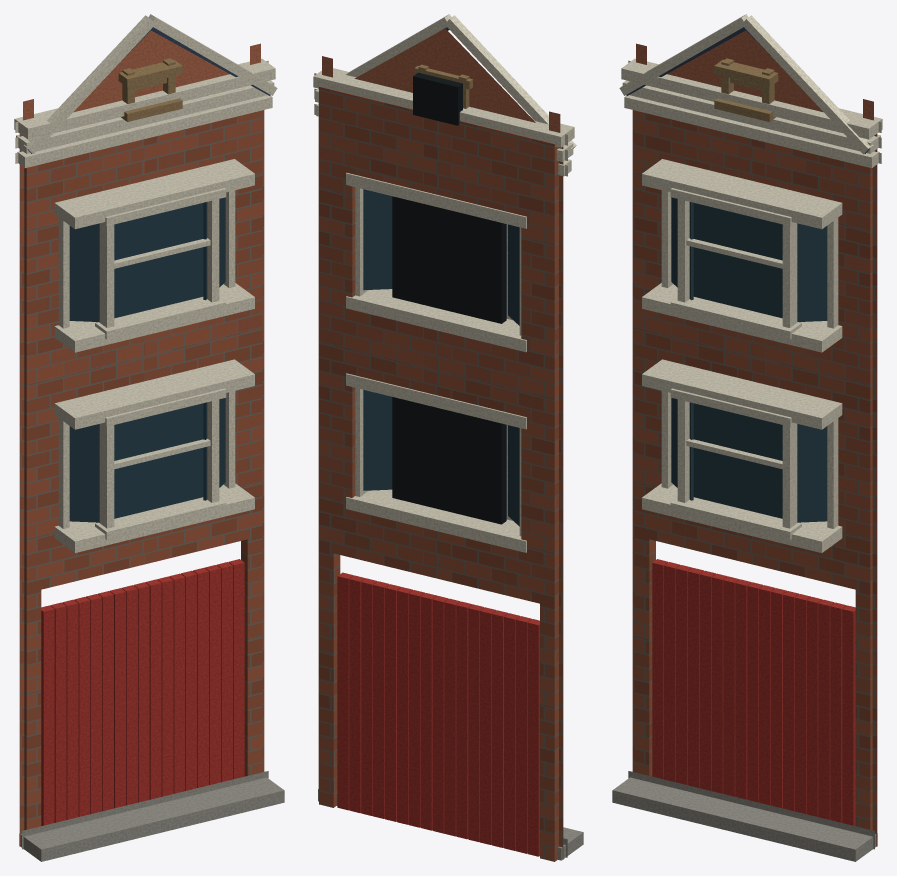
The model's file is VICT6B_lod2.glb.
The picture shows the model from 3 angles, left to right: view 1: azimuth 30°, elevation 25°; view 2: azimuth 150°, elevation 25°; view 3: azimuth 330°, elevation 25°; orthographic projection.
Parts seen in each view (by area): view 1: VICT6B_FRONT_LOD2; view 2: VICT6B_FRONT_LOD2; view 3: VICT6B_FRONT_LOD2.
Part boxes in pixels (x1,y1,x2,y2): VICT6B_FRONT_LOD2: (14, 14, 284, 861); VICT6B_FRONT_LOD2: (313, 14, 583, 861); VICT6B_FRONT_LOD2: (612, 14, 882, 861).
Size of the model in its own units: 3.44 by 10.46 by 0.705.
10 materials, 8 textured.
